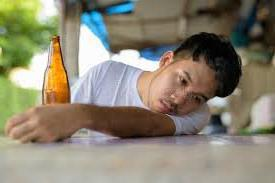Drunk: (154, 66, 212, 114)
